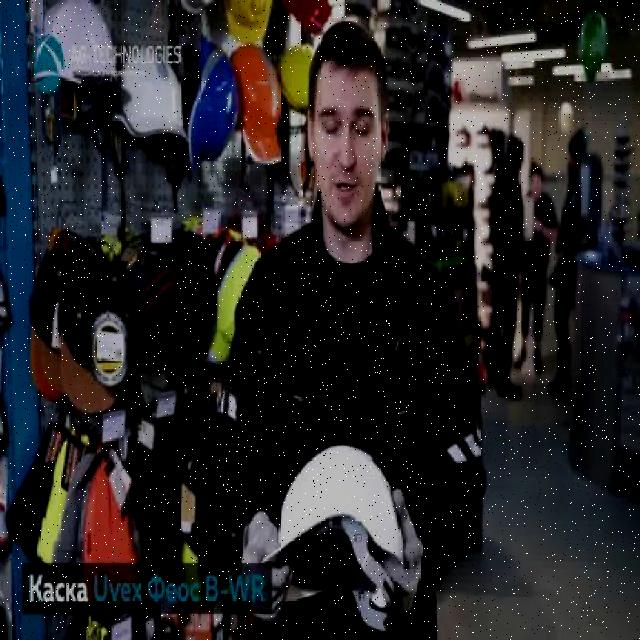Gloves: (380, 487, 428, 624), (239, 509, 295, 623)
Helmet: (262, 441, 408, 628), (186, 34, 240, 172), (41, 0, 122, 89), (117, 49, 191, 145), (231, 40, 284, 171), (275, 38, 320, 118)
